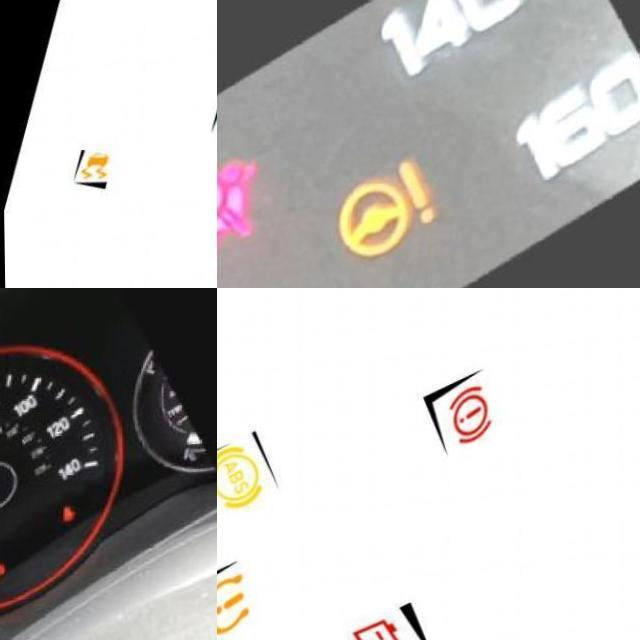Seat Belt: (59, 515, 81, 538)
